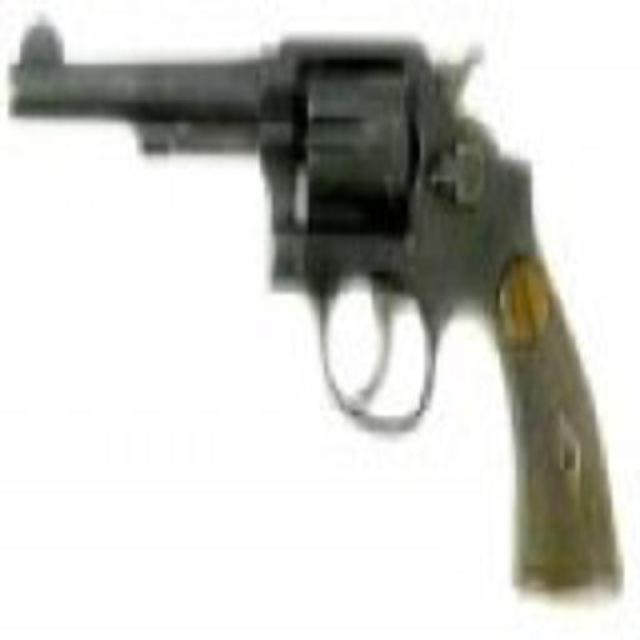pistol: (7, 10, 627, 602)
